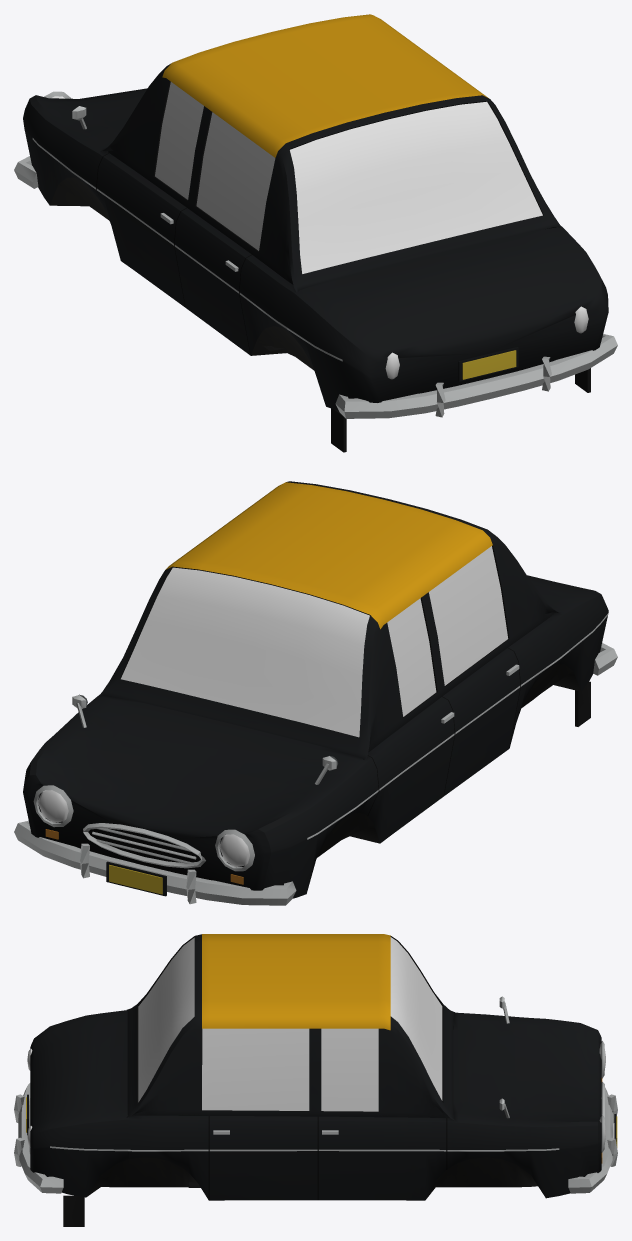
The model's file is taxi.glb.
3 views of the same model, one above another, from view 1: azimuth 30°, elevation 25°; view 2: azimuth 150°, elevation 25°; view 3: azimuth 270°, elevation 25° (orthographic). The views are drawn at different scales.
Visible parts, largest first — view 1: body, glass, tail; view 2: body, glass, lamps; view 3: body, glass.
Part boxes in pixels (box(x1,y1,x2,y2)): body: box(14, 14, 617, 452); glass: box(155, 82, 542, 273); tail: box(385, 306, 588, 379); body: box(14, 481, 617, 905); glass: box(121, 546, 508, 737); lamps: box(38, 790, 249, 867); body: box(14, 934, 617, 1226); glass: box(138, 937, 442, 1111).
Bounding box in the file's own units: 1.81 × 1.52 × 4.01.
